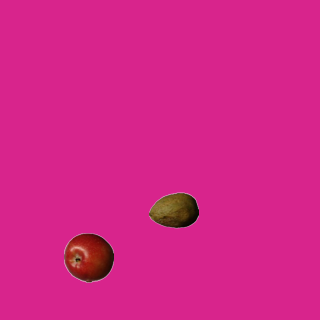Apple Braeburn: (63, 232, 113, 282)
Papaya: (148, 185, 198, 235)
